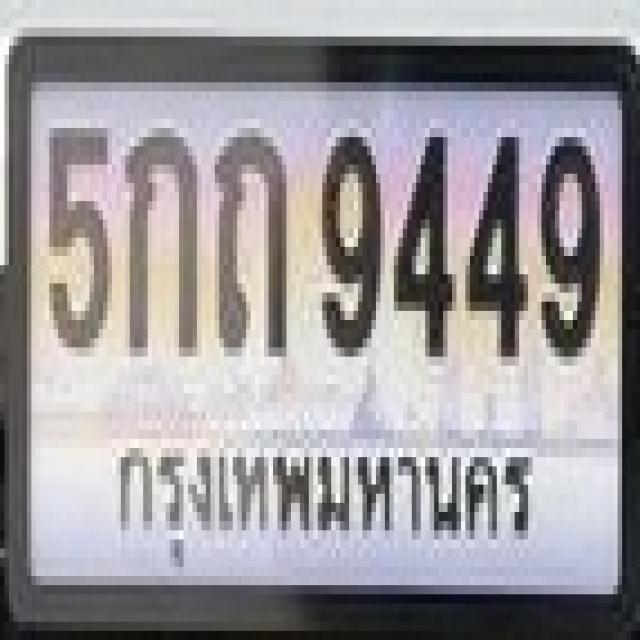license_plate: (8, 33, 640, 640)
